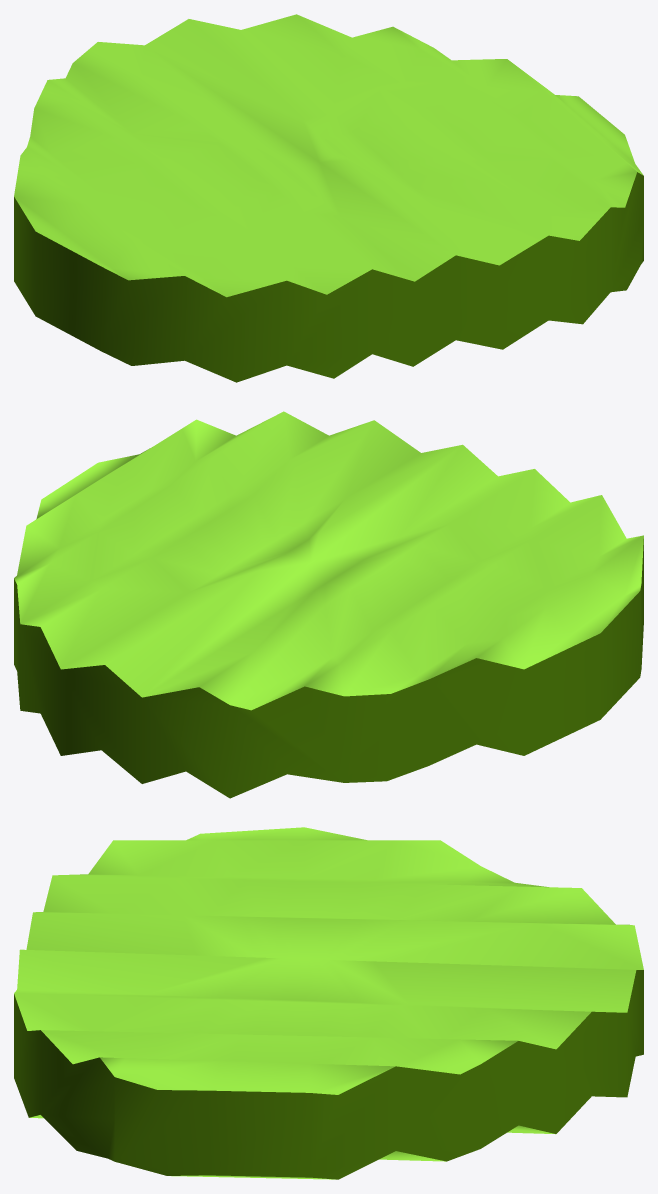
Rendered from CrinklePickle.fbx.
3 views of the same model, one above another, from view 1: azimuth 30°, elevation 25°; view 2: azimuth 150°, elevation 25°; view 3: azimuth 270°, elevation 25° (orthographic). The views are drawn at different scales.
Visible parts, largest first — view 1: pCylinder1; view 2: pCylinder1; view 3: pCylinder1.
Part boxes in pixels (left/top/right/bottom): pCylinder1: left=14, top=14, right=643, bottom=382; pCylinder1: left=14, top=411, right=643, bottom=798; pCylinder1: left=14, top=827, right=643, bottom=1179.
Bounding box in the file's own units: 4.04 × 0.7378 × 4.05.
